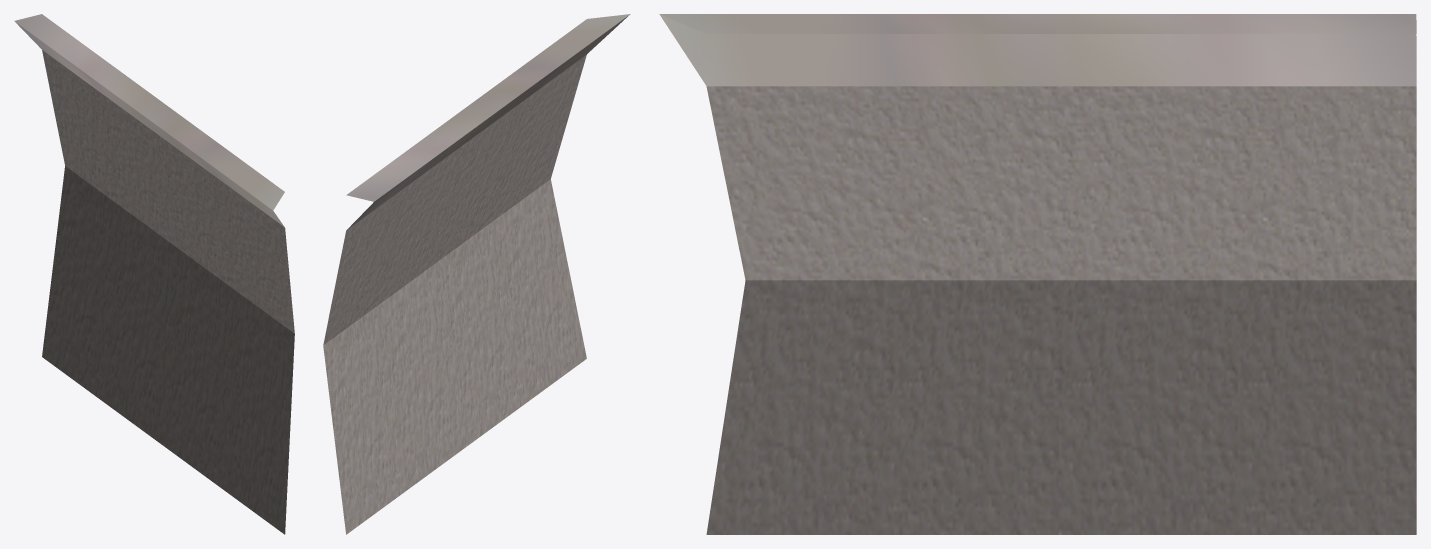
Rendered from W_A2l_xx [DunklerStein]_2460.glb.
The picture shows the model from 3 angles, left to right: view 1: azimuth 30°, elevation 25°; view 2: azimuth 150°, elevation 25°; view 3: azimuth 270°, elevation 25°; orthographic projection. The views are drawn at different scales.
Parts seen in each view (by area): view 1: pPlaneShape1, polySurfaceShape1065; view 2: pPlaneShape1, polySurfaceShape1065; view 3: pPlaneShape1, polySurfaceShape1065.
Part boxes in pixels (<box>): pPlaneShape1: <box>42,50,294,534</box>; polySurfaceShape1065: <box>14,14,284,227</box>; pPlaneShape1: <box>323,54,586,534</box>; polySurfaceShape1065: <box>346,14,630,229</box>; pPlaneShape1: <box>706,86,1416,534</box>; polySurfaceShape1065: <box>659,14,1416,86</box>.
Bounding box in the file's own units: 0.0607 × 0.3891 × 0.5333.
Materials: 2 (2 with a texture image).
